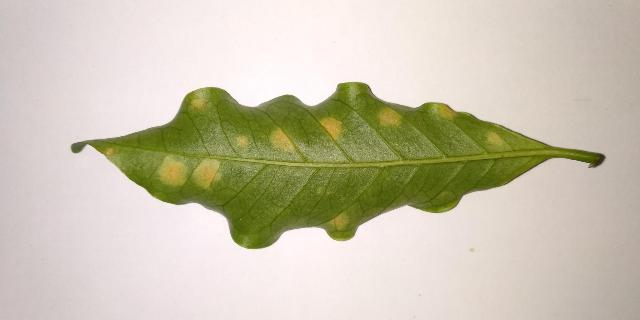miner: (158, 156, 187, 186), (194, 158, 222, 188), (320, 116, 344, 140), (271, 128, 296, 150), (378, 108, 400, 126), (328, 213, 348, 230), (439, 104, 456, 119), (190, 95, 207, 110), (489, 132, 502, 146), (237, 135, 247, 147)
